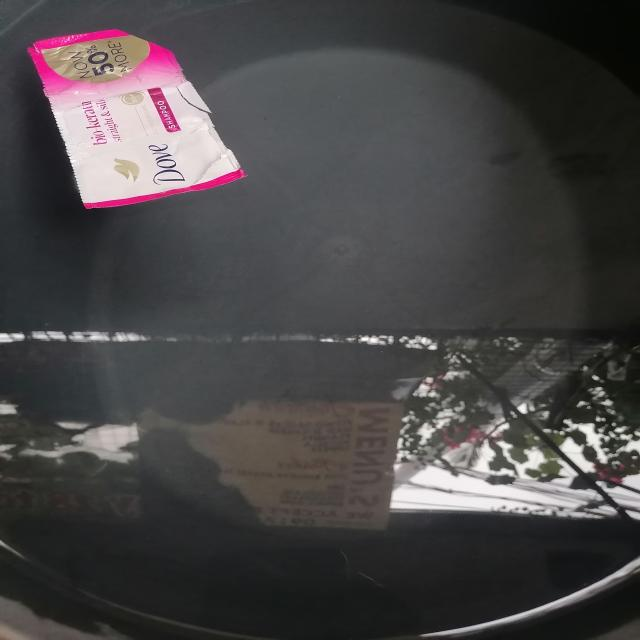Plastic Wrapper: (0, 0, 269, 234)
